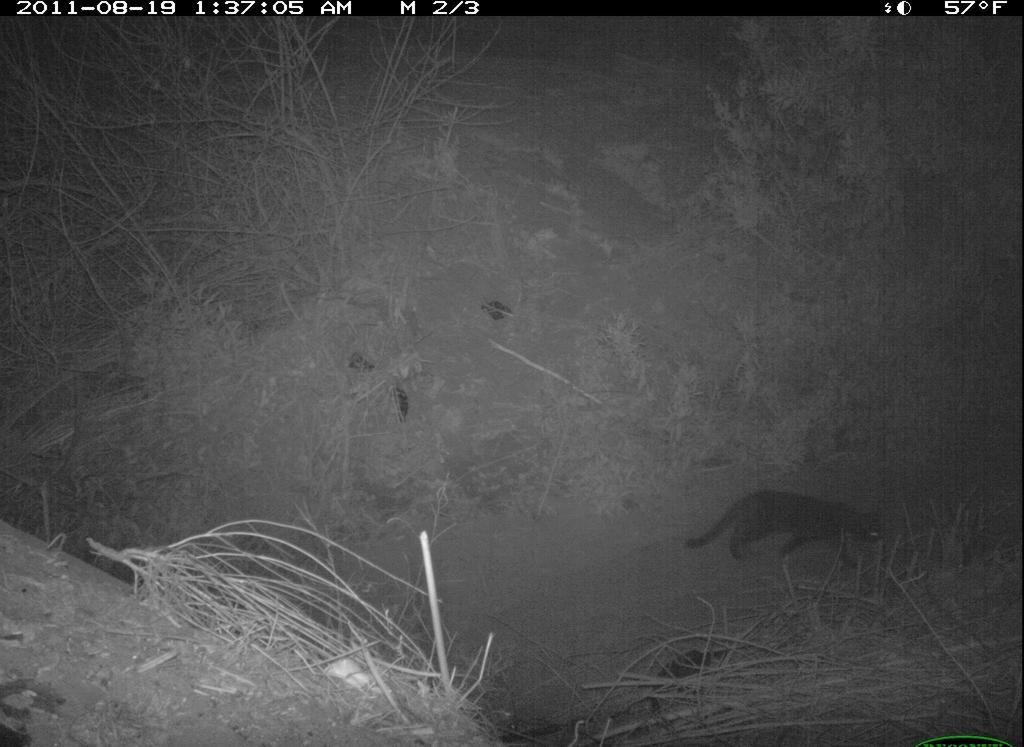cat: (680, 469, 895, 587)
